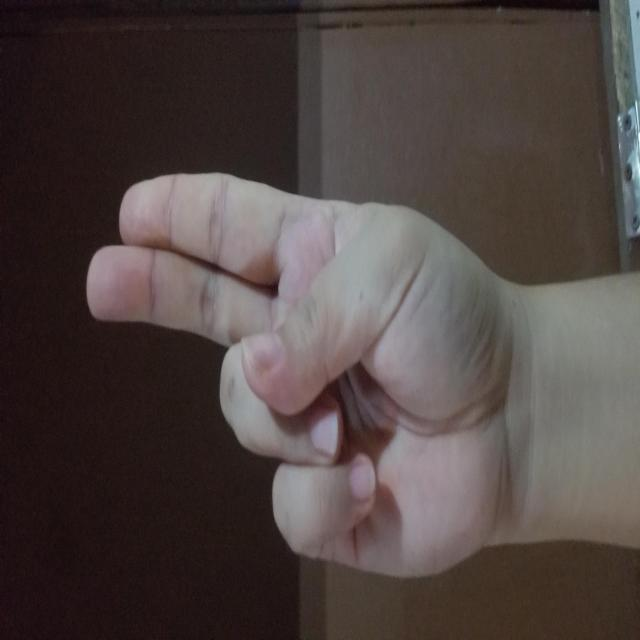U: (61, 84, 472, 506)
